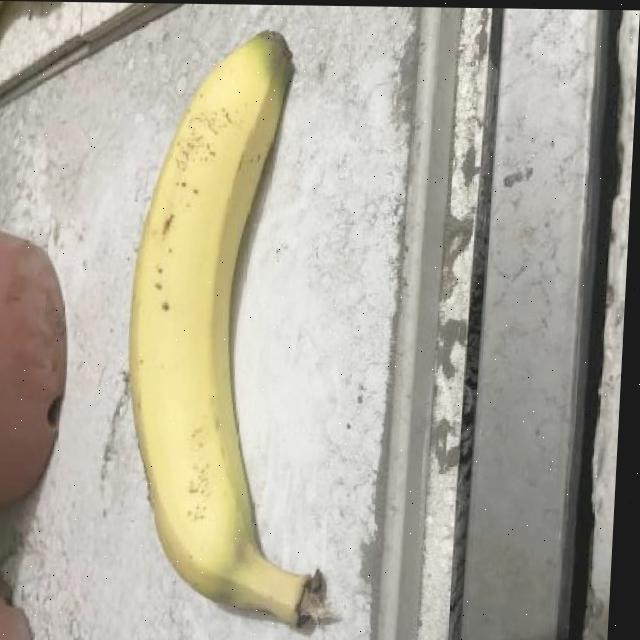banana: (108, 22, 370, 634)
